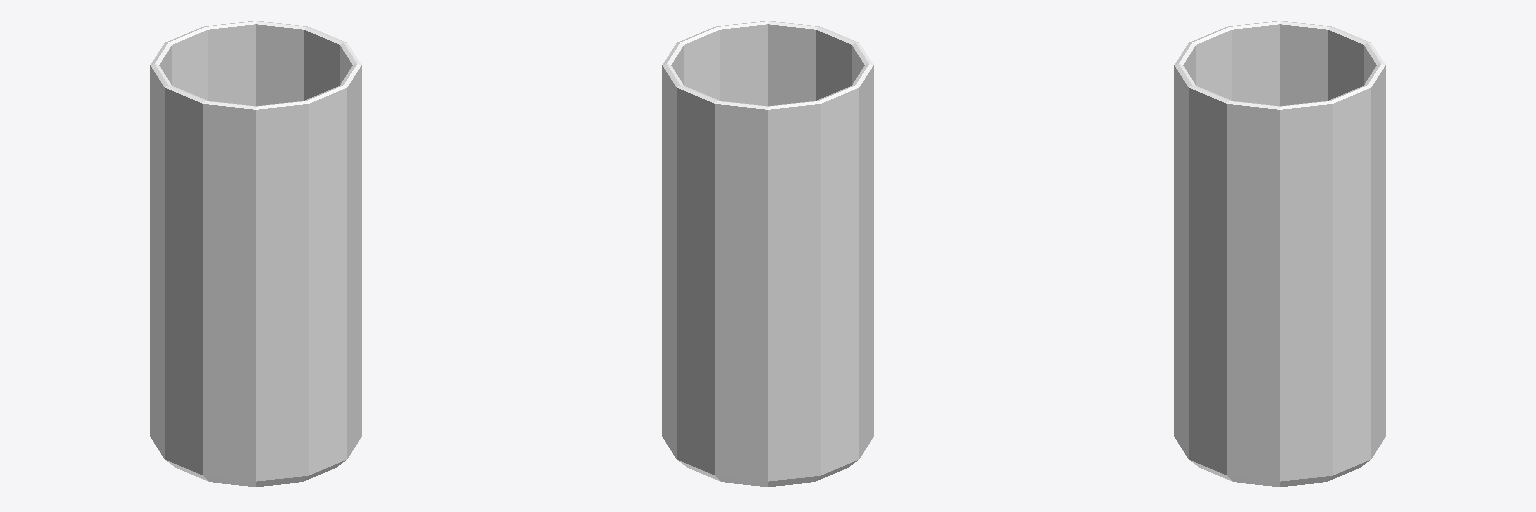
File: milk.obj
The picture shows the model from 3 angles: view 1: azimuth 30°, elevation 25°; view 2: azimuth 150°, elevation 25°; view 3: azimuth 270°, elevation 25°; orthographic projection.
Parts seen in each view (by area): view 1: milk; view 2: milk; view 3: milk.
Boxes of the visible parts, x1,y1,x2,y2 form: milk: [150, 21, 361, 486]; milk: [662, 21, 873, 486]; milk: [1174, 21, 1385, 486].
Size of the model in its own units: 0.3 by 0.602 by 0.3.